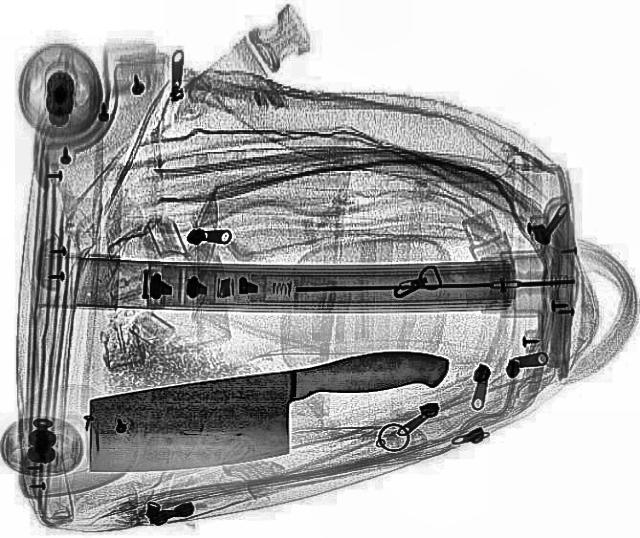Knife: (62, 334, 464, 490)
